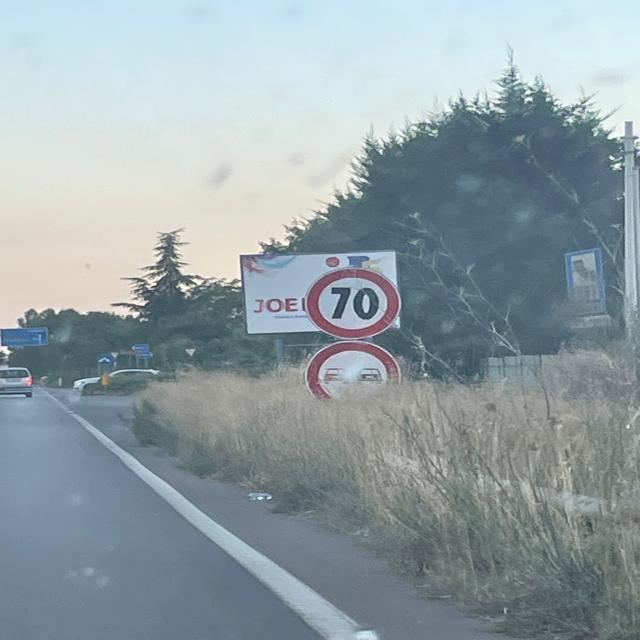forb_overtake: (304, 340, 404, 412)
forb_speed_over_70: (304, 267, 403, 340)
